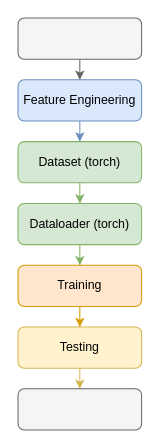
The diagram is 160 pixels wide and 448 high, and some of its shapes have lost their labels. Each missing label, with the box of its shape:
Deployment: (17, 388, 142, 430)
Extracting Data (finance): (17, 17, 142, 59)
